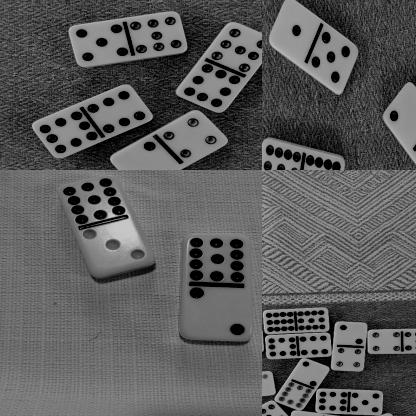pip-1: (269, 0, 316, 60), (287, 410, 322, 416)
pip-10: (275, 381, 313, 410)
pip-11: (58, 172, 130, 224), (185, 235, 252, 284), (262, 138, 302, 170), (297, 308, 331, 332)
pip-12: (301, 149, 346, 170), (262, 309, 297, 334)
pip-2: (179, 283, 252, 341), (110, 140, 175, 170), (384, 81, 416, 140), (298, 358, 331, 387), (334, 320, 369, 346)
pip-3: (80, 224, 157, 279), (262, 369, 276, 397)
pip-4: (163, 108, 229, 158), (368, 328, 403, 354), (332, 346, 366, 370)
pip-5: (312, 29, 360, 95), (70, 18, 130, 67), (349, 390, 385, 414)
pip-6: (89, 83, 154, 133), (298, 333, 334, 358)
pip-7: (129, 10, 188, 56), (212, 21, 262, 72), (262, 400, 290, 416), (402, 327, 416, 353)
pip-8: (32, 110, 99, 158), (176, 64, 240, 112), (264, 334, 298, 359), (316, 388, 350, 412)
